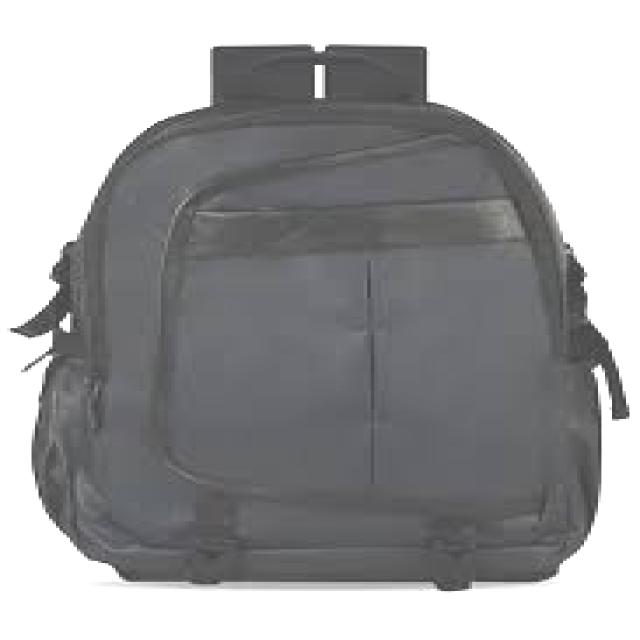backpack: (9, 43, 631, 590)
